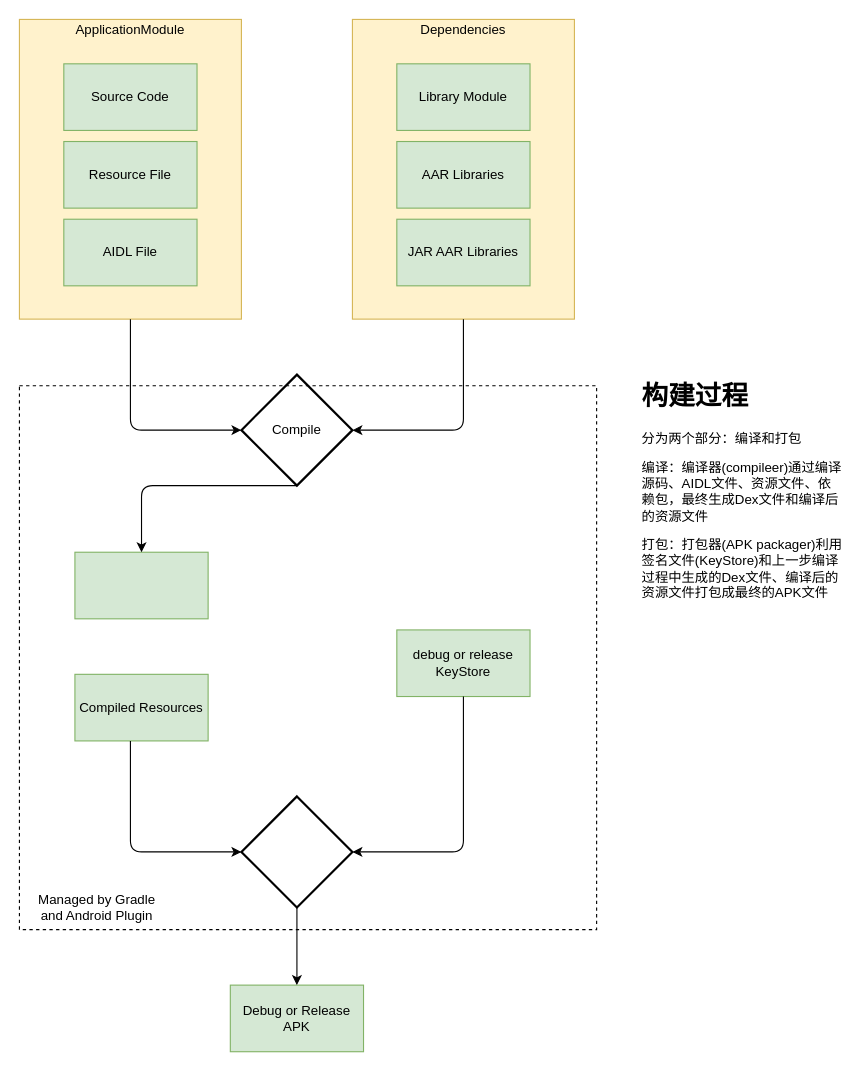
The diagram is 866 pixels wide and 1071 high, and some of its shapes have lost their labels. The shapes that lost their labels are listed below. From the top down, each one's centre as x and y in pixels, then its label:
At pixel 141 585: "DEX File(s)".
At pixel 296 851: "APK Packager".
